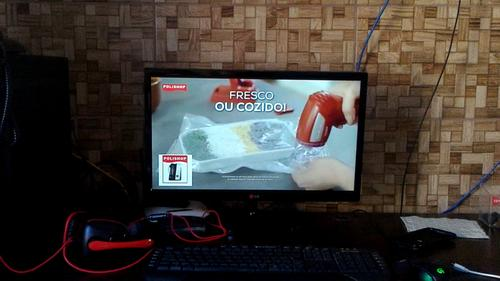Polishop #1: (158, 154, 192, 186)
